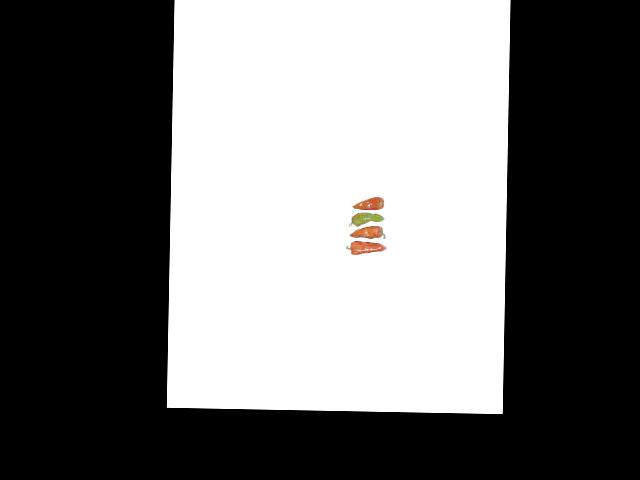bell_pepper: (349, 192, 385, 211)
